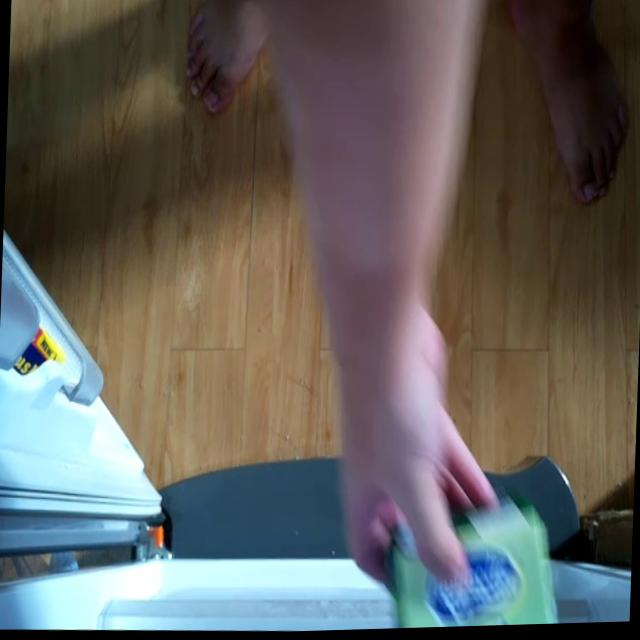milk: (386, 476, 558, 631)
